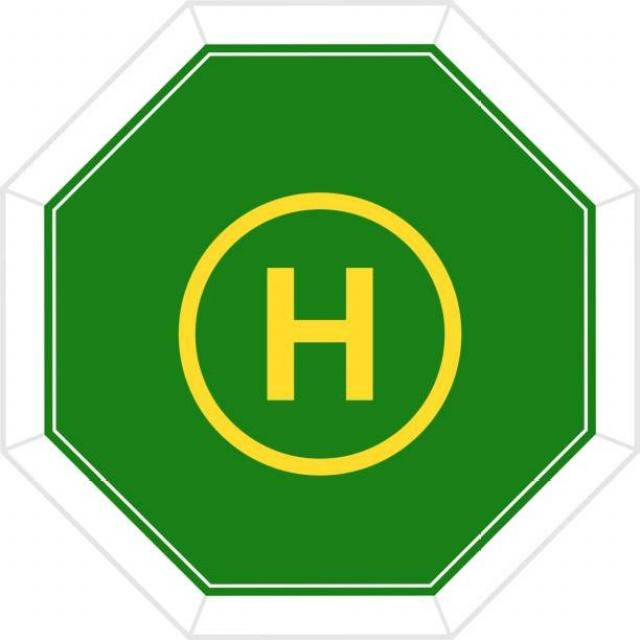helipad: (166, 180, 470, 485)
